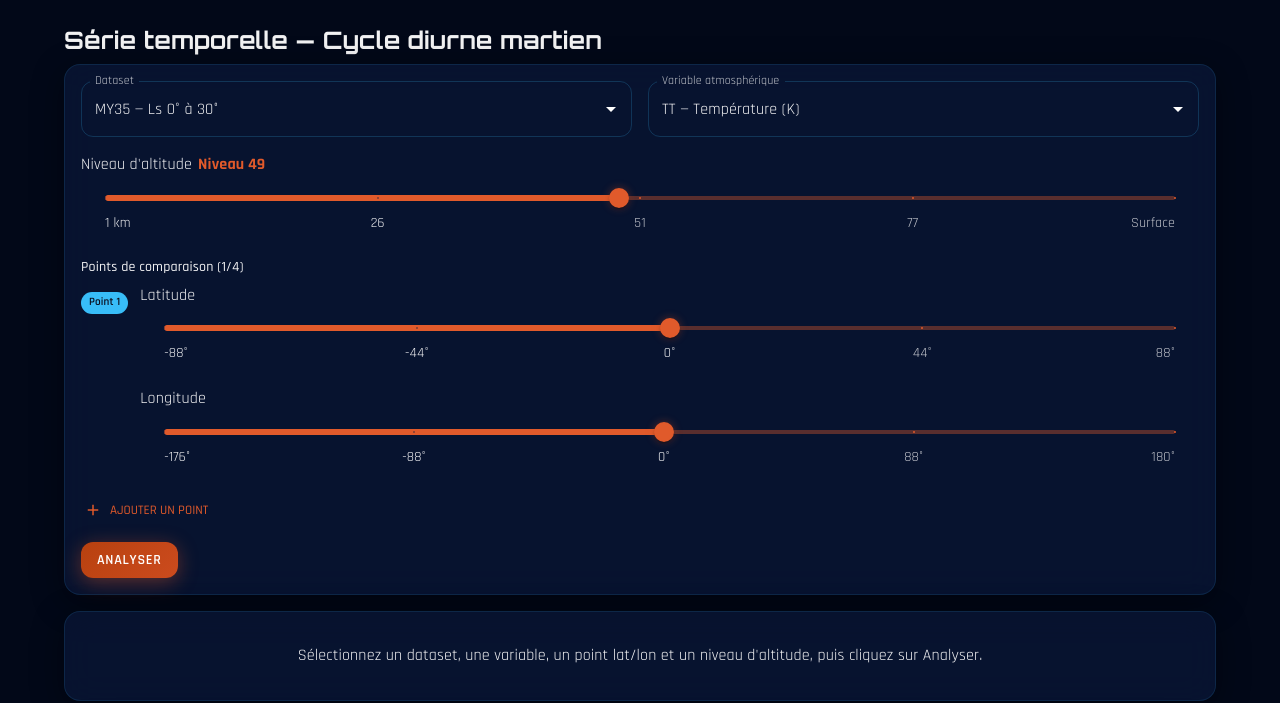
Serie temporelle — points compares › retire un point
Expected: the button "Analyser" is enabled, [81, 542, 178, 578]
Step 1. Click the button "Ajouter un point" → click(147, 510), box [81, 495, 213, 526]
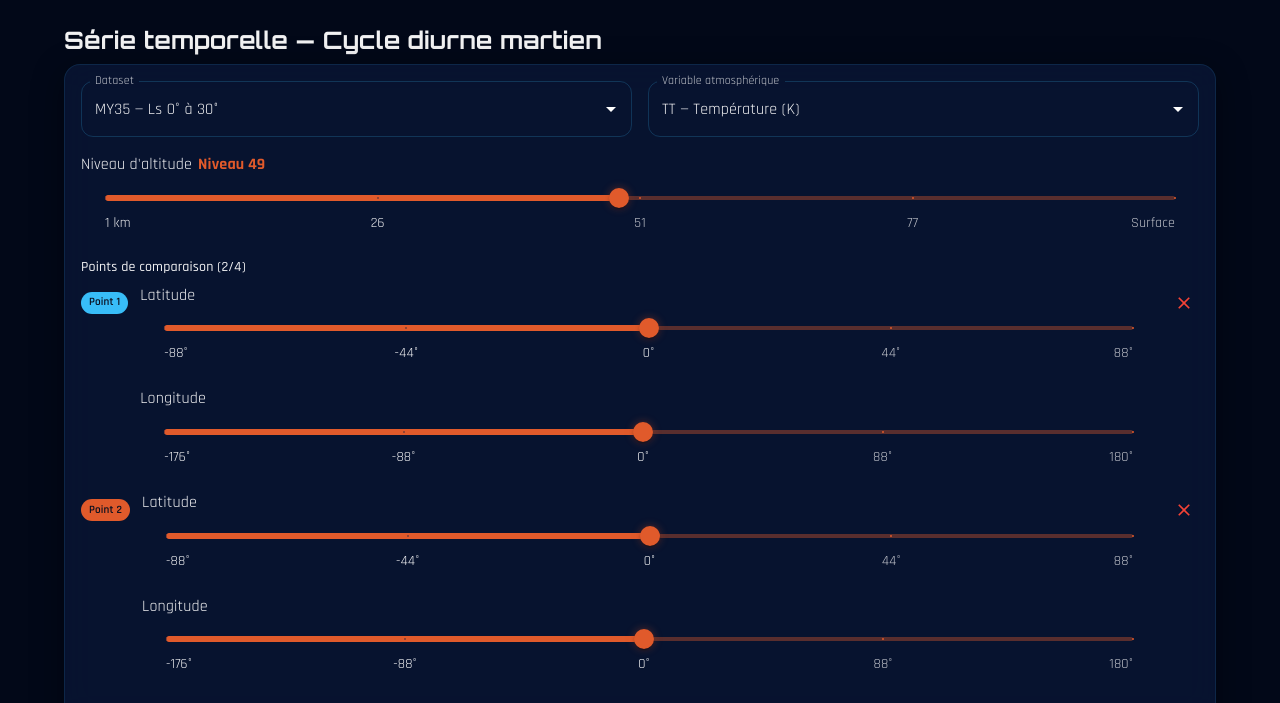
Expected: the text "(2/" is shown, [81, 258, 246, 276]
Step 2. Click the button without text in the row of "Point 1" → click(1184, 303), box [1169, 288, 1199, 318]
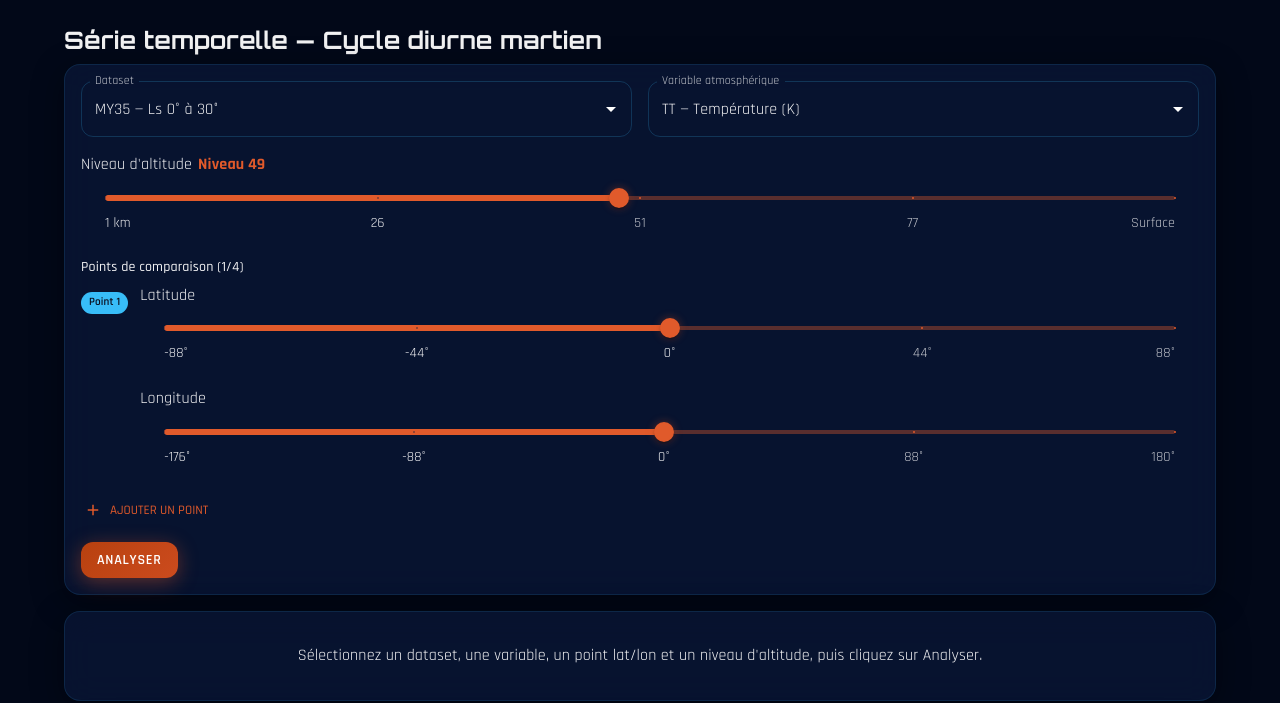
Expected: the button "Analyser" is shown, [81, 542, 178, 578]
Expected: the text "(1/" is shown, [81, 258, 244, 276]
